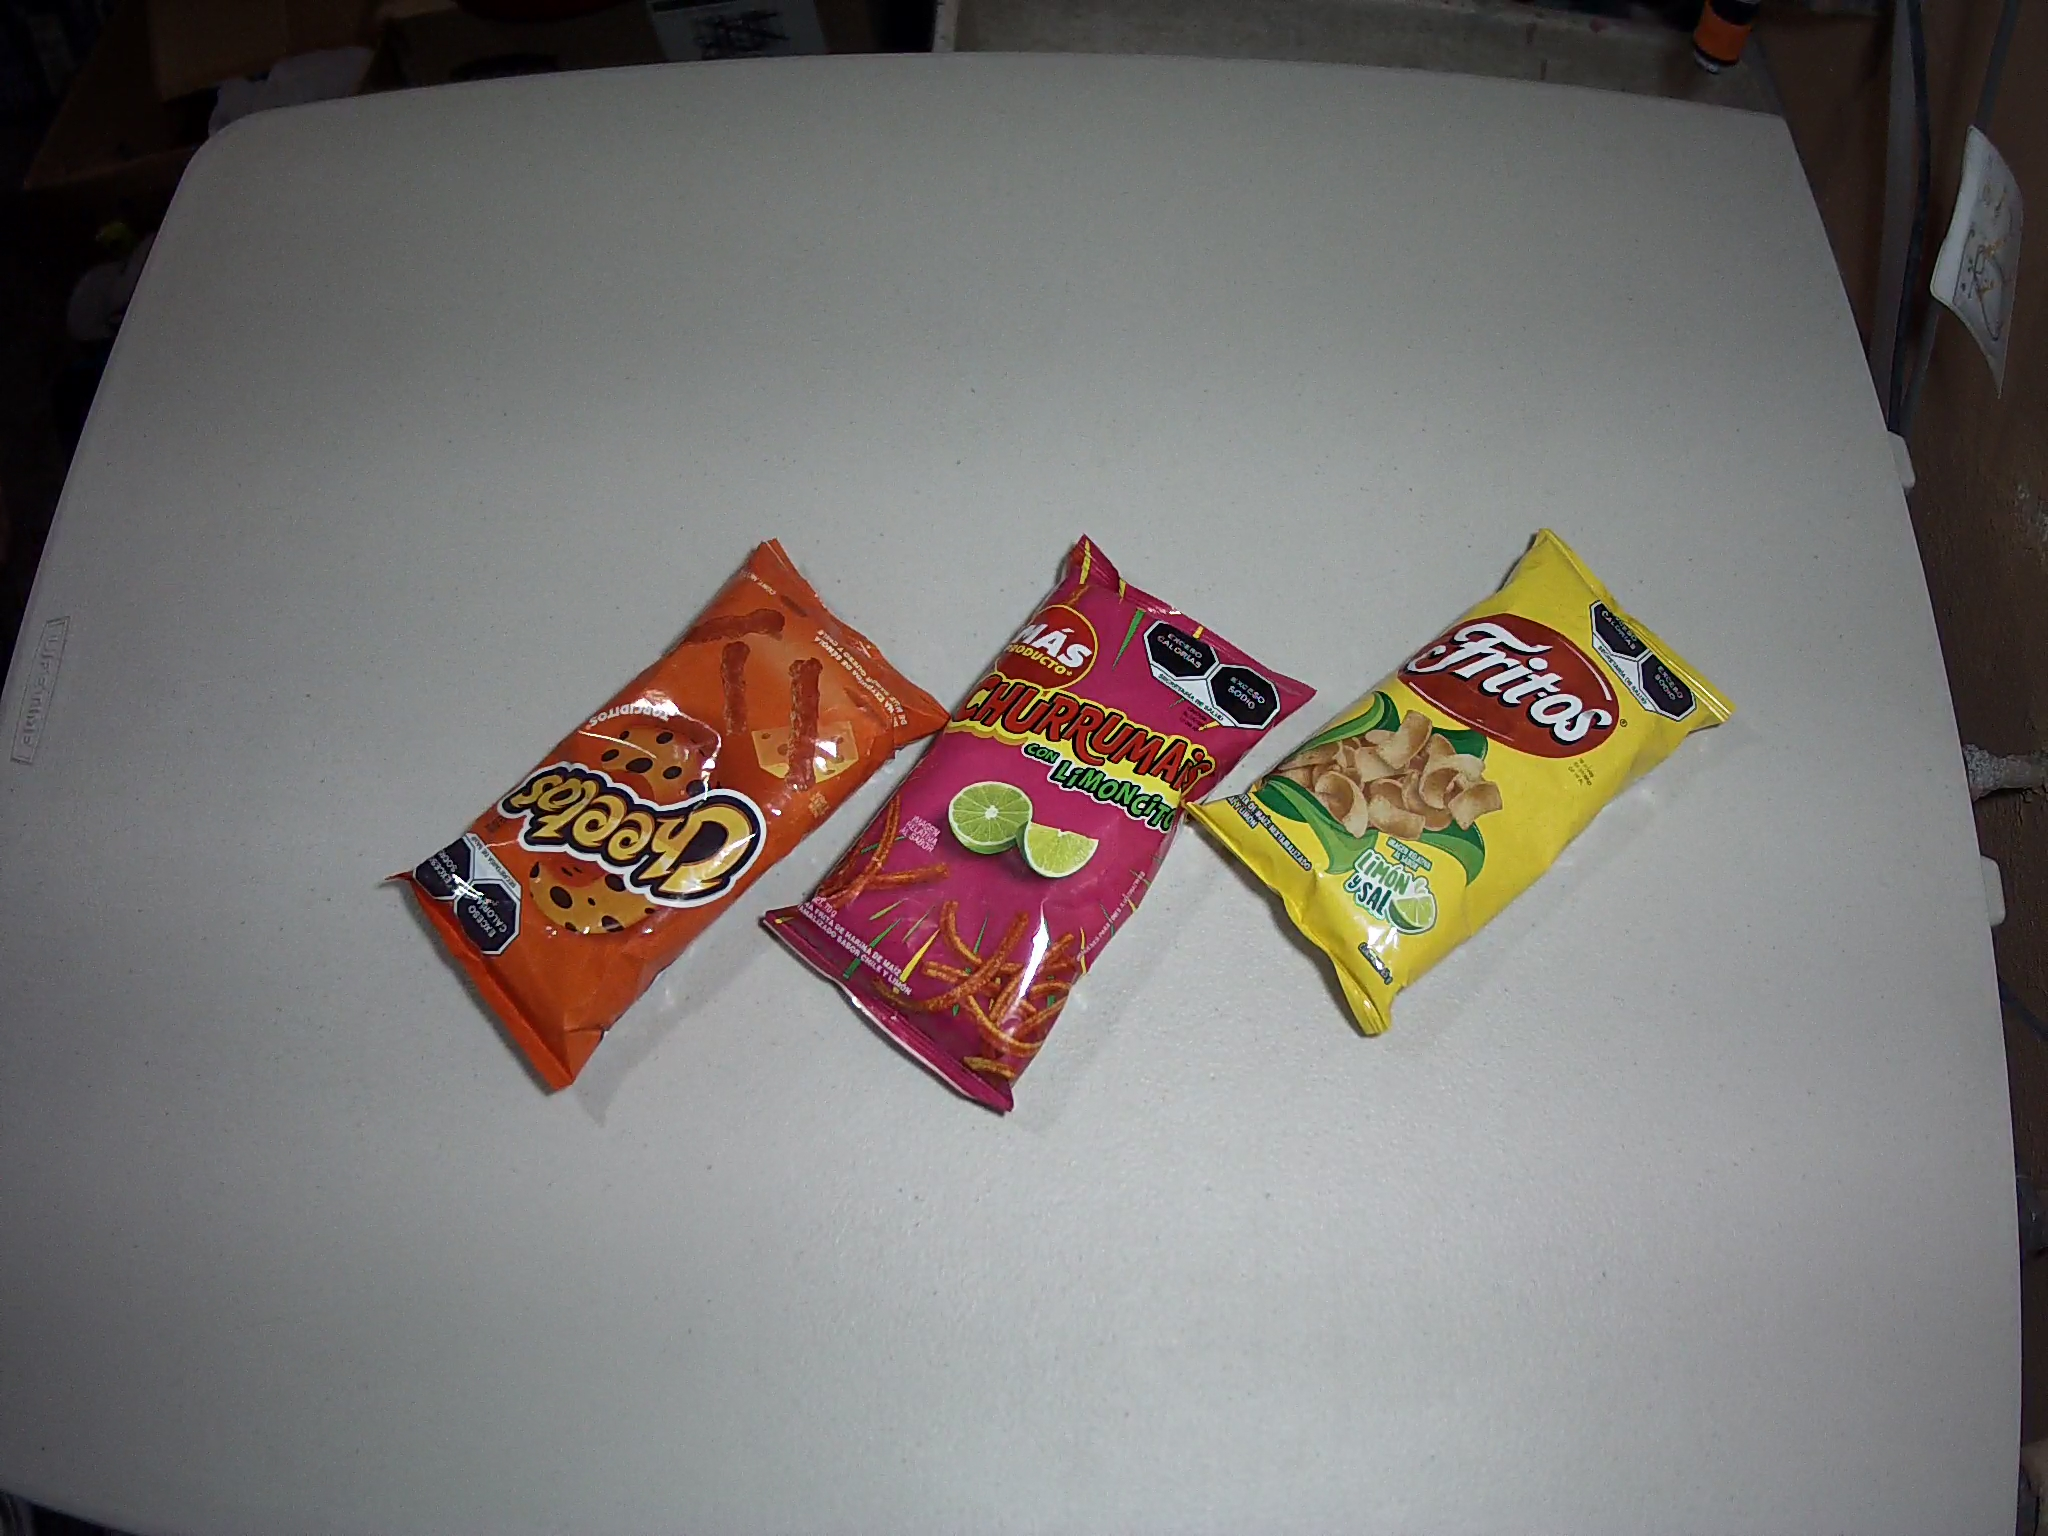CheetosTorciditos_55_F: (385, 536, 961, 1094)
Churrumais_70_F: (760, 532, 1322, 1108)
FritosSalLimon_65_F: (1179, 529, 1738, 1034)
